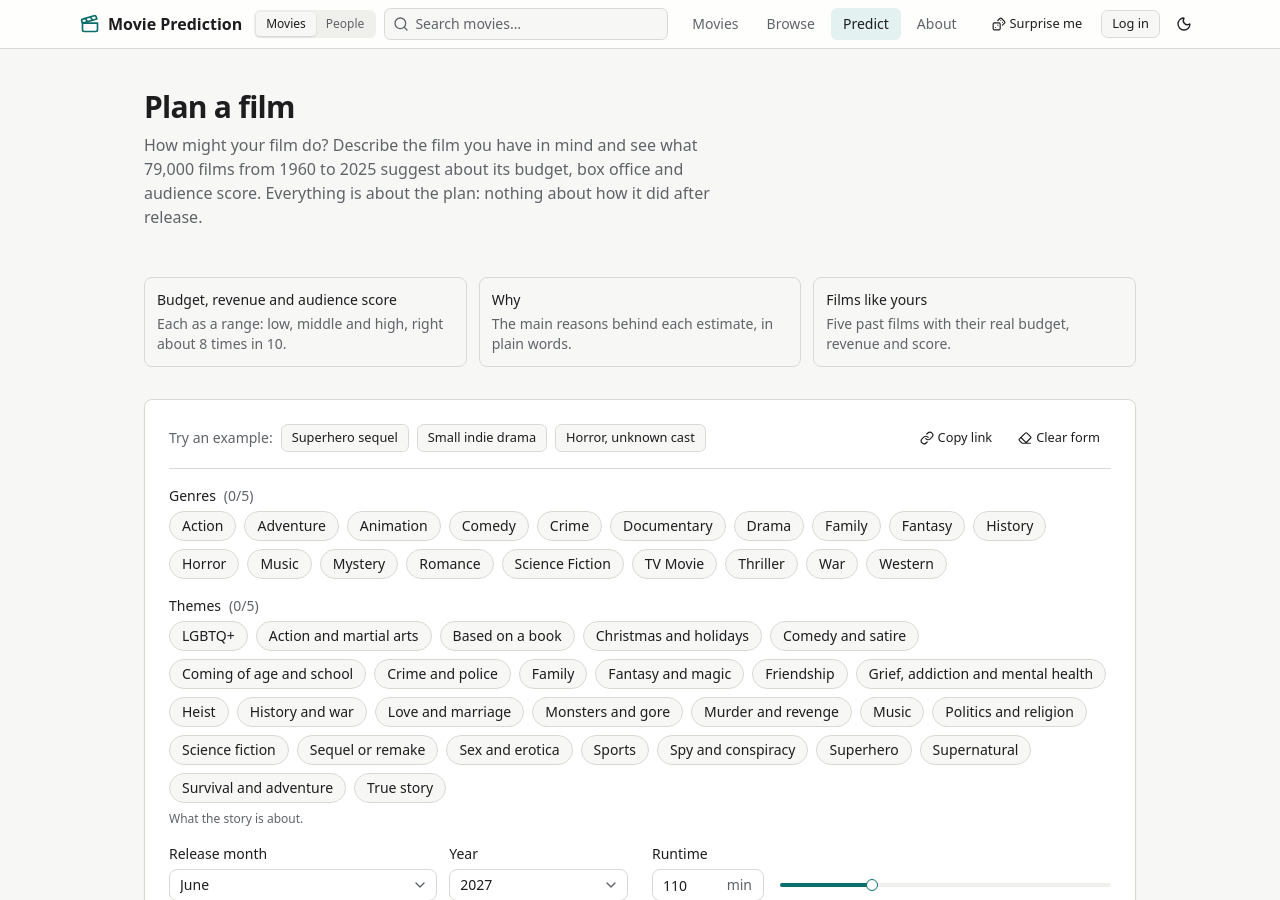
Scenario: examples › "Horror, unknown cast" fills the form, and submitting sends its body and opens the result
The image size is (1280, 900).
What coordinates should you click on to do the following:
click the button "Horror, unknown cast"
I would click on:
 (630, 438)
Its box is left=555, top=424, right=706, bottom=452.
(page scrolled)
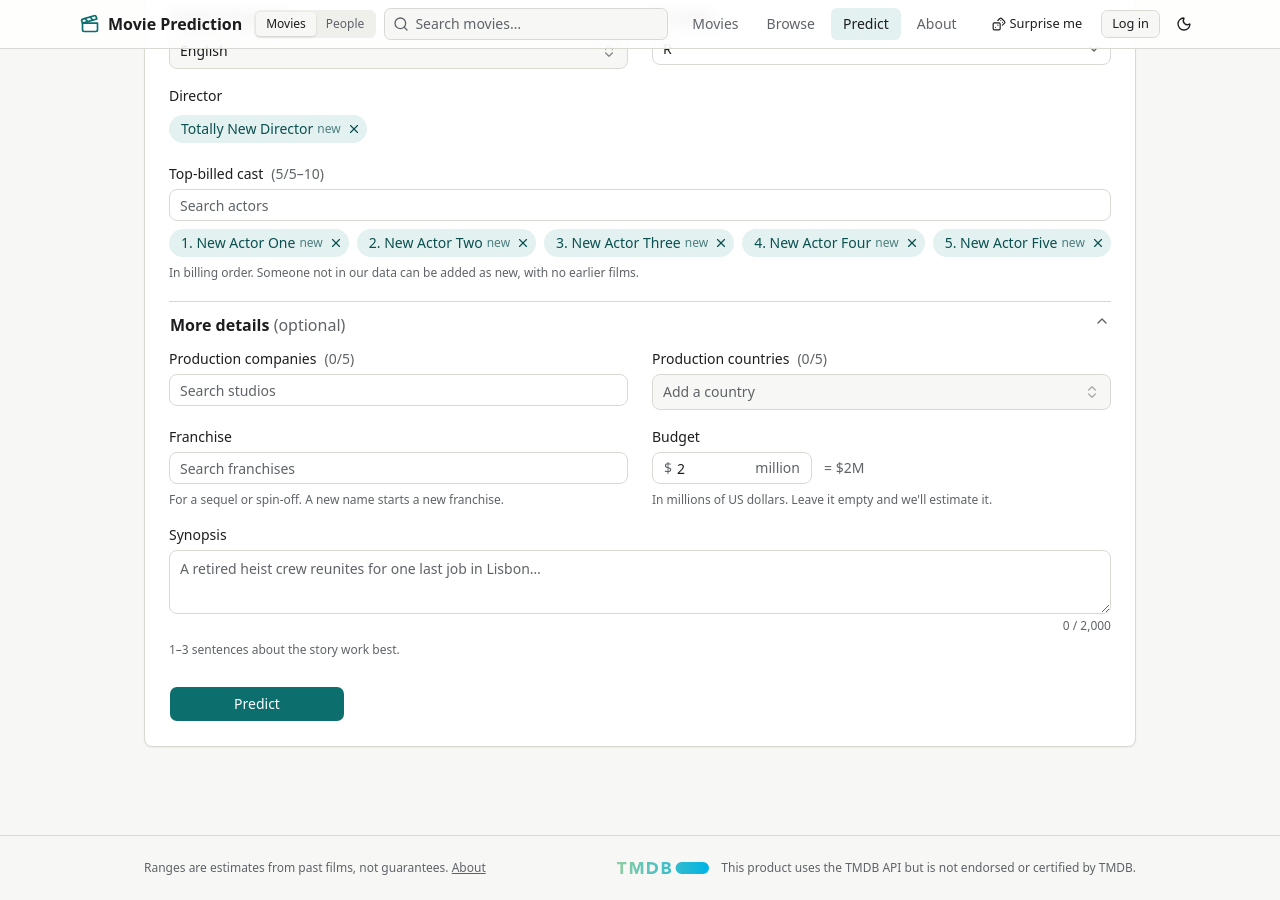
Now the button named "Remove Totally New Director" is shown, box left=345, top=120, right=363, bottom=138
What coordinates should you click on to do the following:
click the button "Predict"
I would click on:
 (257, 704)
Its box is left=169, top=686, right=345, bottom=722.
(page scrolled)
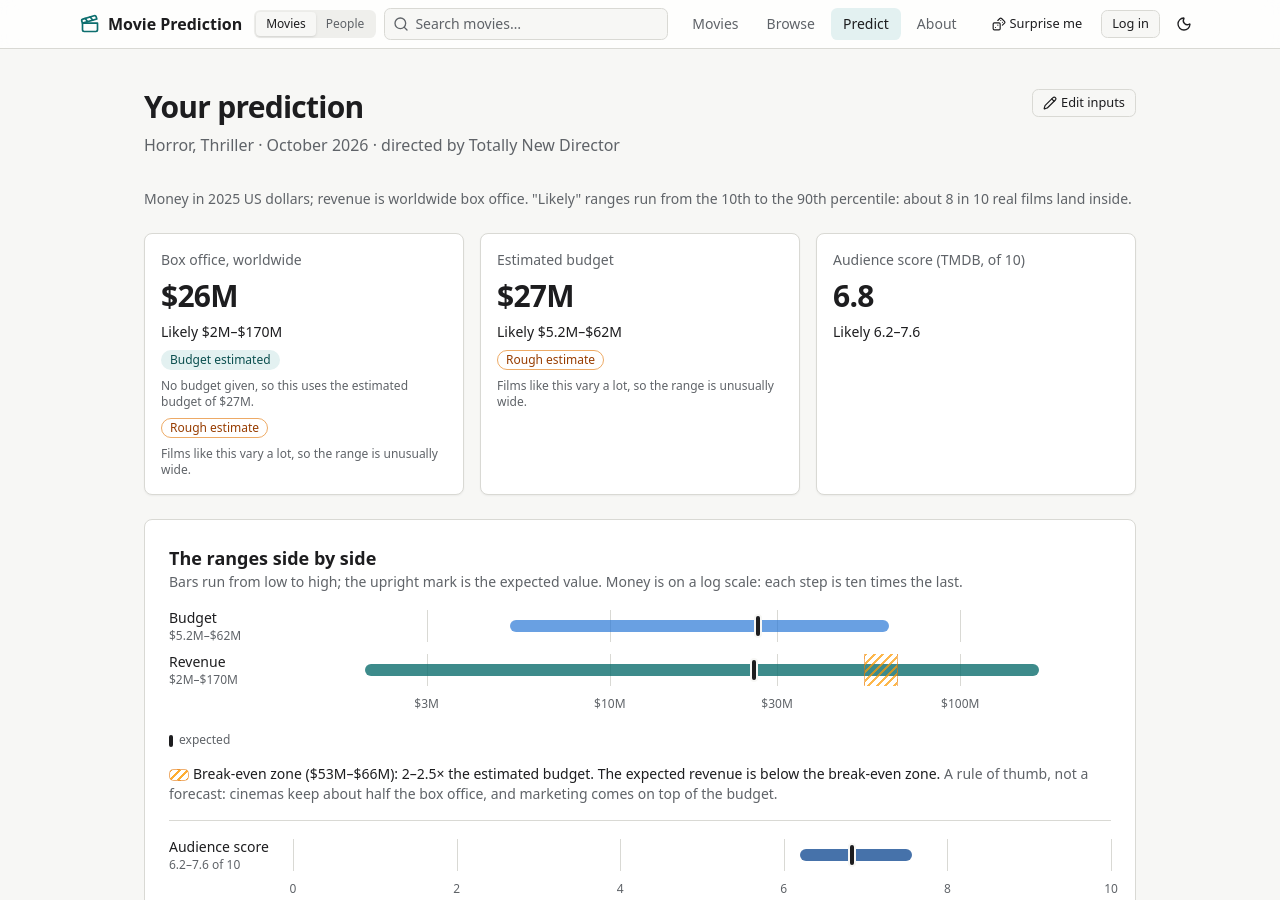
Now the element with test id "card-revenue" shows "$26M", box left=161, top=275, right=238, bottom=316
